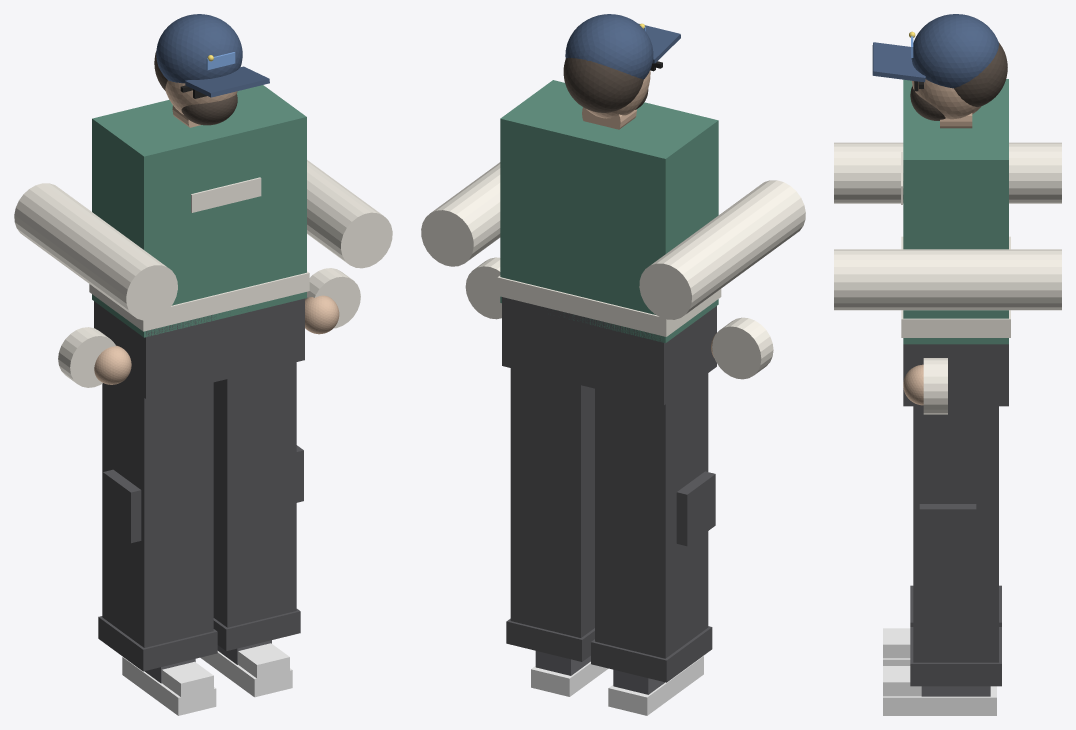
3 views of the same model, side by side, from view 1: azimuth 30°, elevation 25°; view 2: azimuth 150°, elevation 25°; view 3: azimuth 270°, elevation 25° (orthographic).
Visible parts, largest first — view 1: sweatshirt_body, pants_leg_L, pants_leg_R, pants_hips, sleeve_L, sleeve_R, cap_dome, sweatshirt_hem, pants_cuff_L, cargo_pocket_L, cuff_L, pants_cuff_R (+11 smaller); view 2: sweatshirt_body, pants_leg_L, pants_leg_R, pants_hips, sleeve_L, sleeve_R, cap_dome, sweatshirt_hem, hair, pants_cuff_L, cuff_L, cargo_pocket_L (+7 smaller); view 3: pants_leg_R, sweatshirt_body, sleeve_R, sleeve_L, pants_hips, cap_dome, cargo_pocket_R, pants_cuff_R, sneaker_sole_R, sweatshirt_hem, hair, cap_brim (+8 smaller).
Boxes of the visible parts, x1,y1,x2,y2 form: sweatshirt_body: (92,85,306,337); pants_leg_L: (102,382,213,647); pants_leg_R: (213,362,296,627); pants_hips: (94,298,304,398); sleeve_L: (14,183,177,320); sleeve_R: (307,160,392,268); cap_dome: (156,14,242,83); sweatshirt_hem: (89,271,309,331); pants_cuff_L: (98,616,217,671); cargo_pocket_L: (103,469,141,543); cuff_L: (58,327,115,387); pants_cuff_R: (213,609,300,650); sweatshirt_body: (500,80,718,343); pants_leg_L: (595,373,708,658); pants_leg_R: (510,368,594,637); pants_hips: (502,297,716,405); sleeve_L: (639,180,805,319); sleeve_R: (421,162,500,266); cap_dome: (565,14,653,79); sweatshirt_hem: (497,275,721,336); hair: (563,58,643,112); pants_cuff_L: (591,626,712,682); cuff_L: (712,317,773,379); cargo_pocket_L: (676,471,715,546); pants_leg_R: (913,406,998,662); sweatshirt_body: (903,79,1008,344); sleeve_R: (834,249,1061,310); sleeve_L: (834,142,1061,203); pants_hips: (903,344,1008,406); cap_dome: (911,14,998,88); cargo_pocket_R: (919,504,976,560); pants_cuff_R: (910,627,1001,686); sneaker_sole_R: (883,686,996,715); sweatshirt_hem: (901,236,1010,337); hair: (954,42,1007,106); cap_brim: (872,42,925,82).
Size of the model in its own units: 0.84 by 1.81 by 0.56.
